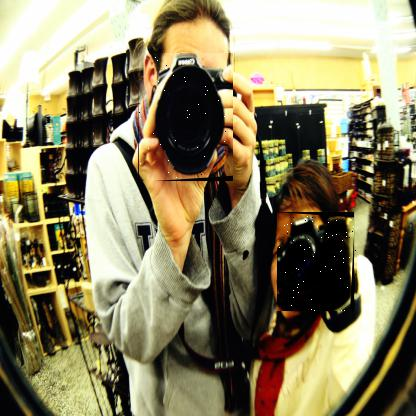Camera: (139, 54, 235, 183), (279, 213, 359, 313)
